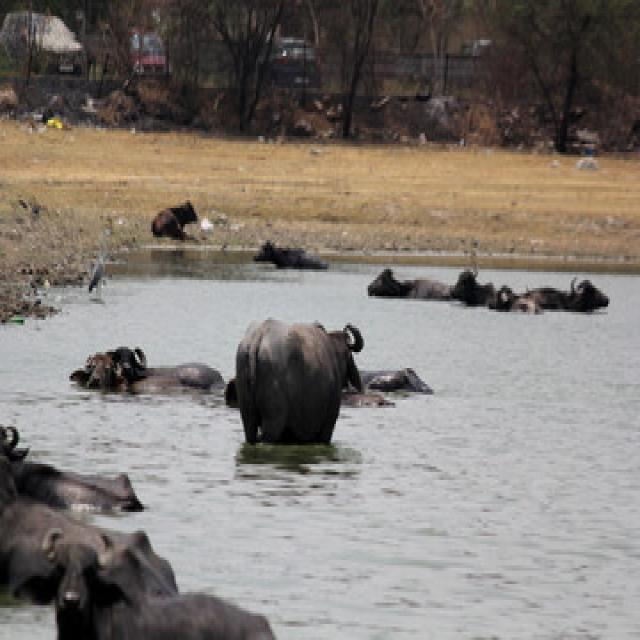Buffalo: (11, 524, 273, 640), (235, 310, 367, 441)
